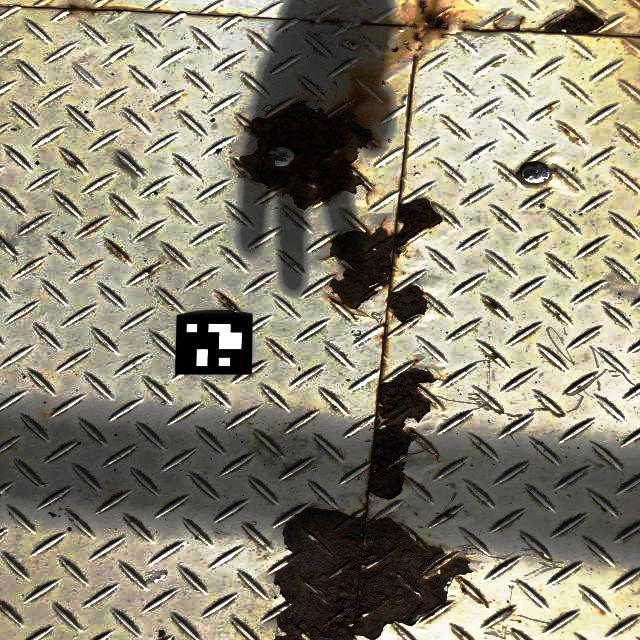Corrosion: (274, 509, 472, 640), (237, 101, 376, 208), (330, 198, 443, 308), (368, 369, 435, 500), (544, 5, 604, 32), (388, 285, 427, 323), (467, 12, 526, 32), (218, 295, 240, 312), (110, 245, 128, 260), (426, 14, 446, 27), (68, 4, 87, 12), (417, 1, 429, 12), (330, 298, 344, 306), (142, 266, 155, 274), (489, 301, 498, 310), (492, 352, 499, 358), (446, 513, 454, 518)
